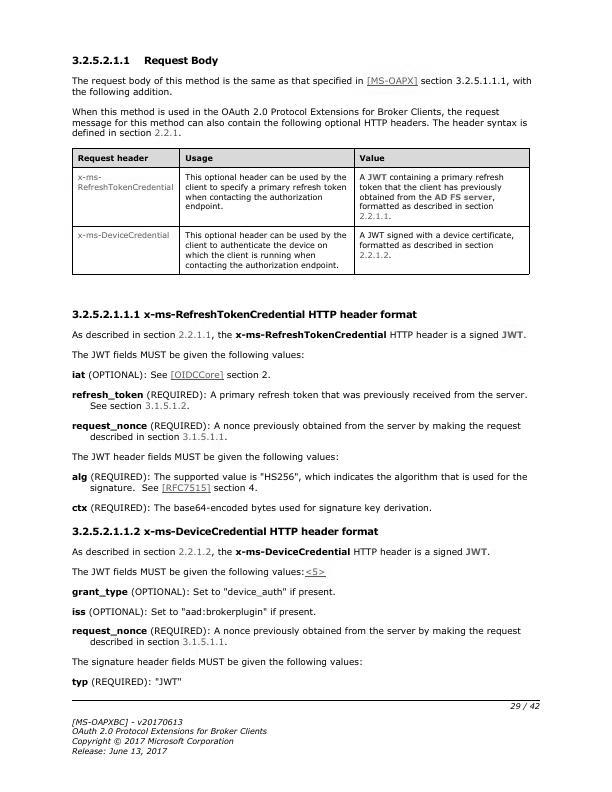table: (70, 146, 535, 279)
text: (70, 105, 529, 141), (70, 470, 530, 494), (70, 75, 534, 98), (68, 420, 523, 443), (69, 389, 529, 411), (68, 626, 523, 646), (68, 713, 268, 758), (68, 329, 526, 343), (70, 308, 421, 324), (68, 524, 383, 541), (68, 653, 364, 670), (68, 546, 492, 557), (68, 503, 433, 515), (68, 347, 310, 365), (69, 449, 342, 464), (68, 565, 329, 579), (68, 606, 320, 620), (69, 586, 337, 599), (69, 368, 273, 381), (68, 52, 221, 69), (69, 675, 183, 689)
